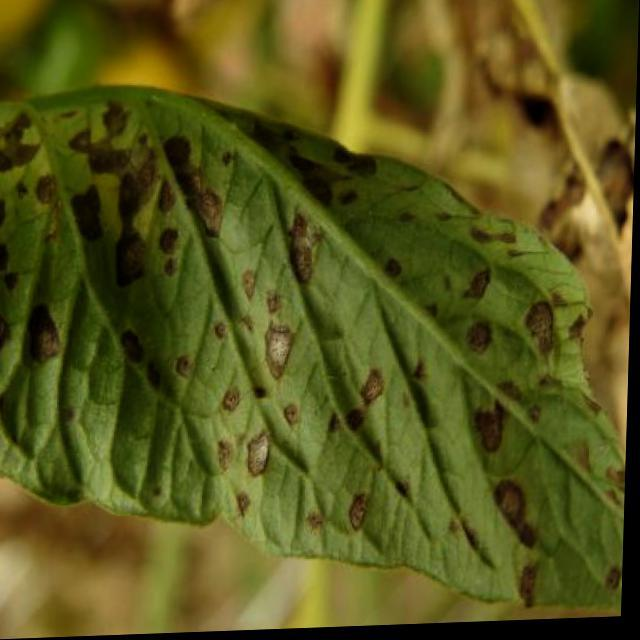Tomato Septoria spot leaf: (0, 37, 638, 634)
